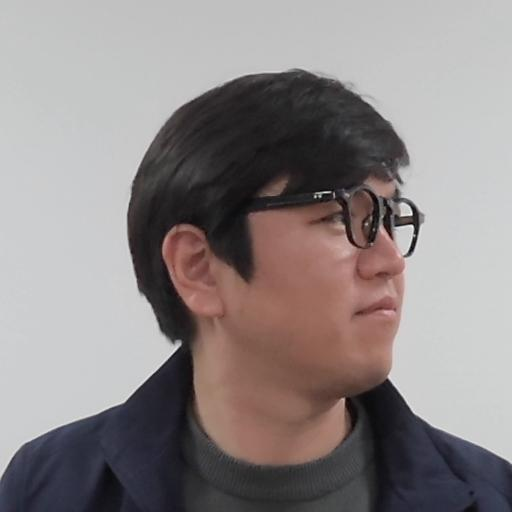no_glasses: (125, 61, 434, 406)
